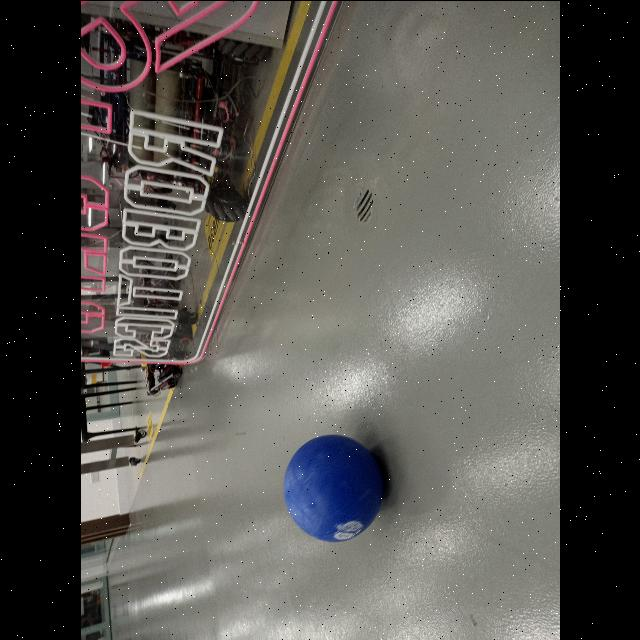B: (281, 434, 383, 542)
